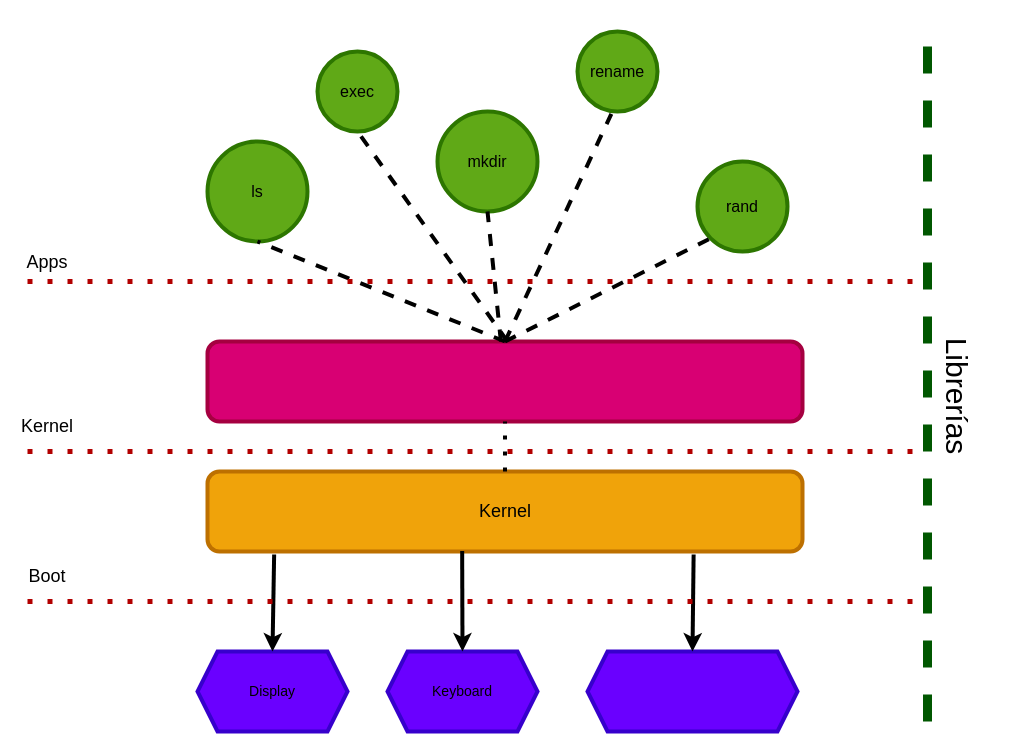
The diagram is 1019 pixels wide and 751 high, and some of its shapes have lost their labels. Here are the shapes that lost their labels. From the top down, the centre of each, then its label:
At pixel 504 381: "Shell".
At pixel 692 691: "EFI/ BIOS".
